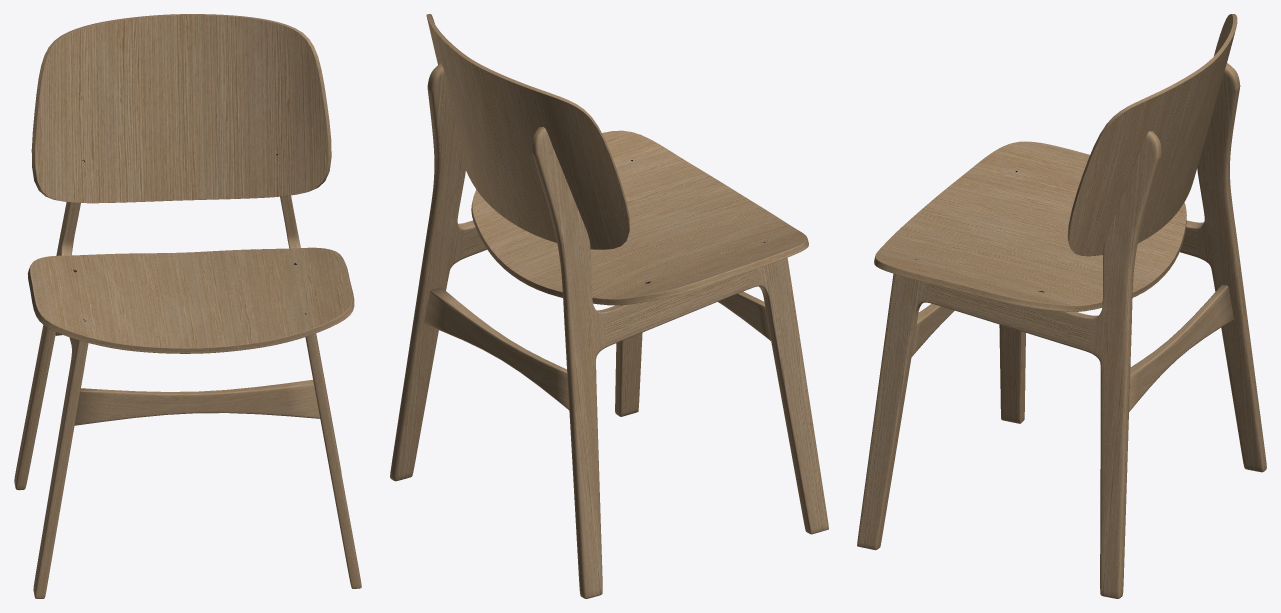
The picture shows the model from 3 angles, left to right: view 1: azimuth 30°, elevation 25°; view 2: azimuth 150°, elevation 25°; view 3: azimuth 270°, elevation 25°; orthographic projection. The views are drawn at different scales.
Parts seen in each view (by area): view 1: Back_support_4, Base_5, Chair_Leg_10, Rung1_8; view 2: Chair_Leg_10, Base_5, Back_support_4, Rung1.001_9, Rung1_8; view 3: Chair_Leg_10, Base_5, Back_support_4, Rung1.001_9, Rung1_8.
Part boxes in pixels (bbox=[...]): Back_support_4: bbox=[31, 14, 331, 203]; Base_5: bbox=[27, 247, 354, 353]; Chair_Leg_10: bbox=[14, 195, 361, 598]; Rung1_8: bbox=[74, 380, 320, 425]; Chair_Leg_10: bbox=[390, 63, 828, 598]; Base_5: bbox=[471, 130, 808, 305]; Back_support_4: bbox=[426, 14, 629, 249]; Rung1.001_9: bbox=[424, 287, 569, 409]; Rung1_8: bbox=[718, 291, 770, 340]; Chair_Leg_10: bbox=[857, 63, 1266, 598]; Base_5: bbox=[874, 141, 1186, 311]; Back_support_4: bbox=[1067, 14, 1237, 256]; Rung1.001_9: bbox=[1129, 285, 1233, 411]; Rung1_8: bbox=[911, 303, 954, 357].
Bounding box in the file's own units: 0.8102 × 0.9823 × 0.7649.
3 materials, 1 textured.
